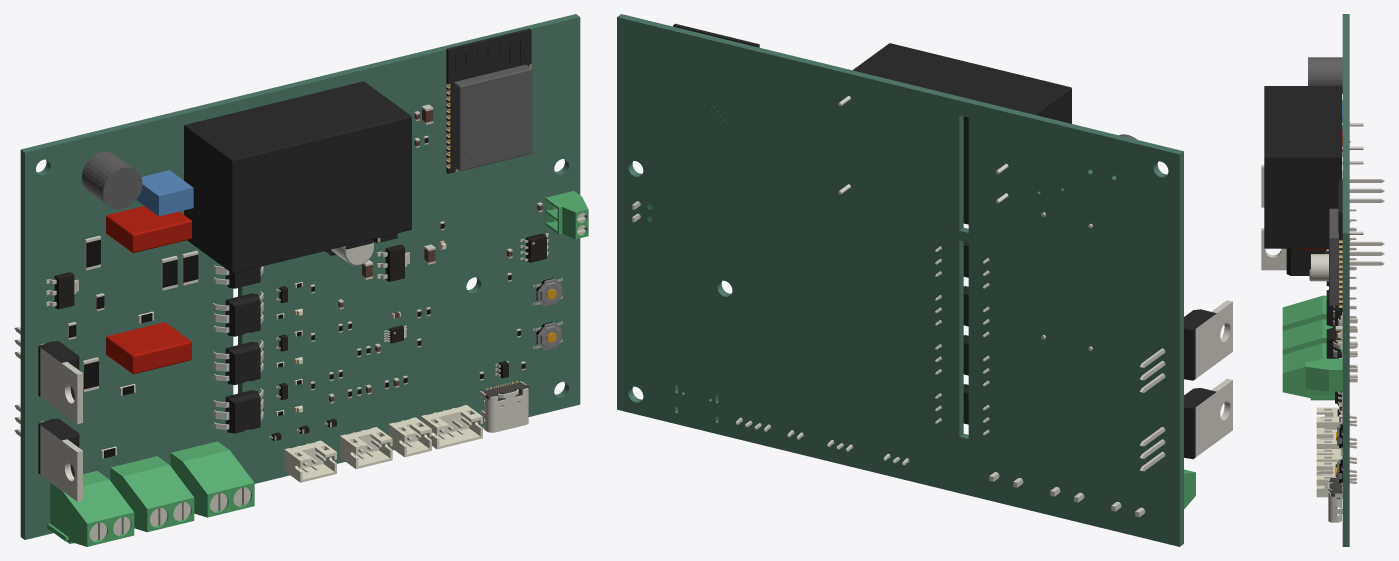
Rendered from board.glb.
3 renders of one model, left to right at view 1: azimuth 30°, elevation 25°; view 2: azimuth 150°, elevation 25°; view 3: azimuth 270°, elevation 25°, orthographic. The views are drawn at different scales.
Visible parts, largest first — view 1: =>[0:1:1:54], =>[0:1:1:53]_c98236, =>[0:1:1:51]_33c61b, =>[0:1:1:21]_af9377, =>[0:1:1:21]_1_a696bc, =>[0:1:1:21]_2_17ce59, =>[0:1:1:51]_c61bcf, =>[0:1:1:33]_a59867, =>[0:1:1:33]_1_fdbac7, F1, =>[0:1:1:3]_05566a, =>[0:1:1:3]_1_4f6c16 (+13 smaller); view 2: =>[0:1:1:54], =>[0:1:1:53]_c98236, =>[0:1:1:3]_05566a, =>[0:1:1:3]_1_4f6c16, =>[0:1:1:3]_056ad7, =>[0:1:1:3]_1_3781a2; view 3: =>[0:1:1:53]_c98236, =>[0:1:1:54], =>[0:1:1:21]_1_a696bc, =>[0:1:1:23]_763f71, =>[0:1:1:21]_2_17ce59, =>[0:1:1:3]_1_4f6c16, =>[0:1:1:21]_af9377, F1, =>[0:1:1:51]_33c61b, =>[0:1:1:3]_1_3781a2, =>[0:1:1:3]_05566a, =>[0:1:1:45]_4111ee (+13 smaller).
Part boxes in pixels (x1,y1,x2,y2): =>[0:1:1:54]: (20,14,580,539); =>[0:1:1:53]_c98236: (184,81,411,273); =>[0:1:1:51]_33c61b: (454,64,532,171); =>[0:1:1:21]_af9377: (47,471,134,546); =>[0:1:1:21]_1_a696bc: (170,441,254,517); =>[0:1:1:21]_2_17ce59: (110,456,194,532); =>[0:1:1:51]_c61bcf: (446,28,531,173); =>[0:1:1:33]_a59867: (106,322,191,374); =>[0:1:1:33]_1_fdbac7: (106,206,191,253); F1: (81,151,142,209); =>[0:1:1:3]_05566a: (14,327,82,424); =>[0:1:1:3]_1_4f6c16: (14,404,82,501); =>[0:1:1:54]: (617,14,1183,546); =>[0:1:1:53]_c98236: (853,43,1071,224); =>[0:1:1:3]_05566a: (1140,300,1232,392); =>[0:1:1:3]_1_4f6c16: (1140,378,1232,471); =>[0:1:1:3]_056ad7: (1184,309,1216,380); =>[0:1:1:3]_1_3781a2: (1184,388,1216,459); =>[0:1:1:53]_c98236: (1264,86,1341,248); =>[0:1:1:54]: (1342,14,1349,546); =>[0:1:1:21]_1_a696bc: (1282,343,1342,400); =>[0:1:1:23]_763f71: (1305,358,1342,391); =>[0:1:1:21]_2_17ce59: (1282,319,1333,354); =>[0:1:1:3]_1_4f6c16: (1261,228,1384,270); =>[0:1:1:21]_af9377: (1282,295,1326,330); F1: (1308,57,1342,93); =>[0:1:1:51]_33c61b: (1329,208,1338,305); =>[0:1:1:3]_1_3781a2: (1286,248,1326,275); =>[0:1:1:3]_05566a: (1261,165,1384,207); =>[0:1:1:45]_4111ee: (1316,461,1337,497).
Size of the model in its own units: 120 by 80.25 by 28.52.
